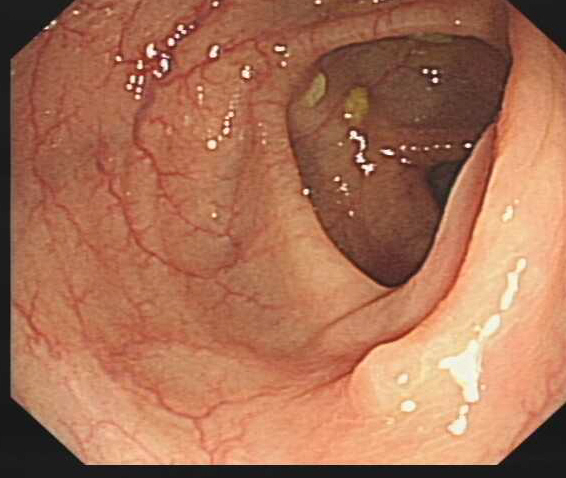others: (344, 339, 431, 418)
